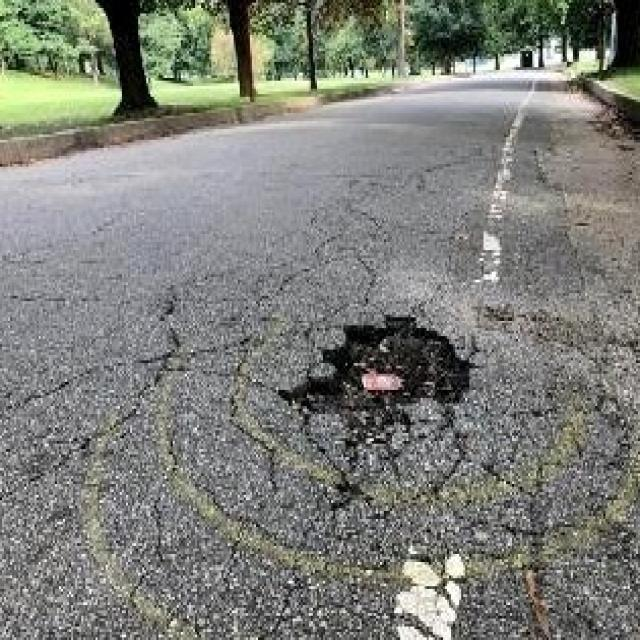road-pothole: (263, 312, 473, 450)
